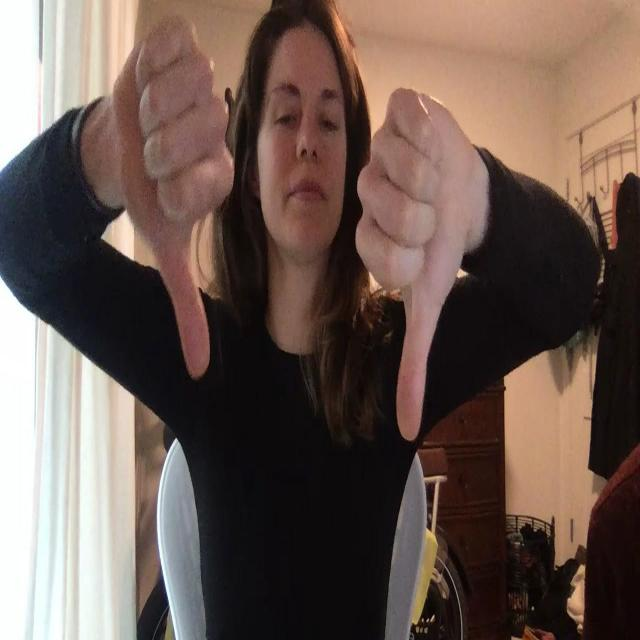face: (259, 39, 347, 261)
